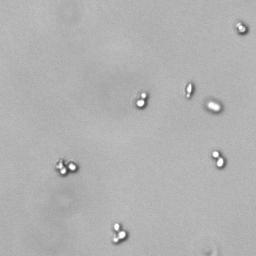budding: (108, 221, 129, 244), (181, 76, 196, 103), (232, 17, 252, 36), (134, 90, 149, 112), (211, 147, 226, 169)
cluster: (53, 155, 80, 179)
individual: (204, 96, 224, 115)
